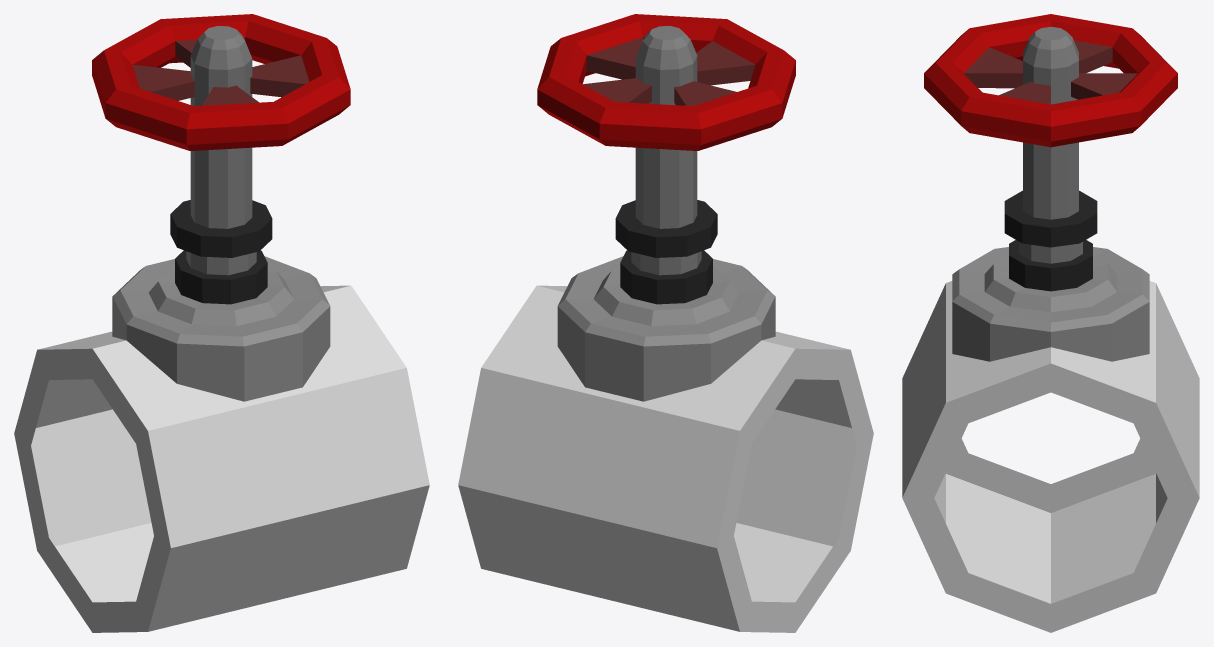
File: valve.fbx
3 views of the same model, side by side, from view 1: azimuth 30°, elevation 25°; view 2: azimuth 150°, elevation 25°; view 3: azimuth 270°, elevation 25° (orthographic). The views are drawn at different scales.
Parts seen in each view (by area): view 1: pCylinder3, pCylinder4, pTorus2; view 2: pCylinder3, pCylinder4, pTorus2; view 3: pCylinder3, pCylinder4, pTorus2.
Part boxes in pixels (x1,y1,x2,y2): pCylinder3: (14, 285, 429, 632); pCylinder4: (112, 26, 330, 401); pTorus2: (92, 14, 350, 150); pCylinder3: (458, 285, 873, 632); pCylinder4: (557, 26, 775, 401); pTorus2: (537, 14, 795, 150); pCylinder3: (902, 281, 1199, 632); pCylinder4: (952, 27, 1149, 361); pTorus2: (924, 14, 1177, 147).
Bounding box in the file's own units: 88.65 × 186 × 93.01.
